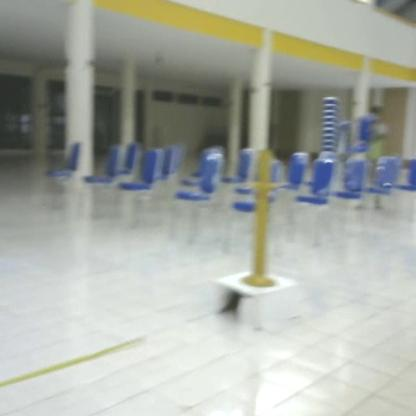pole: (237, 149, 286, 295)
